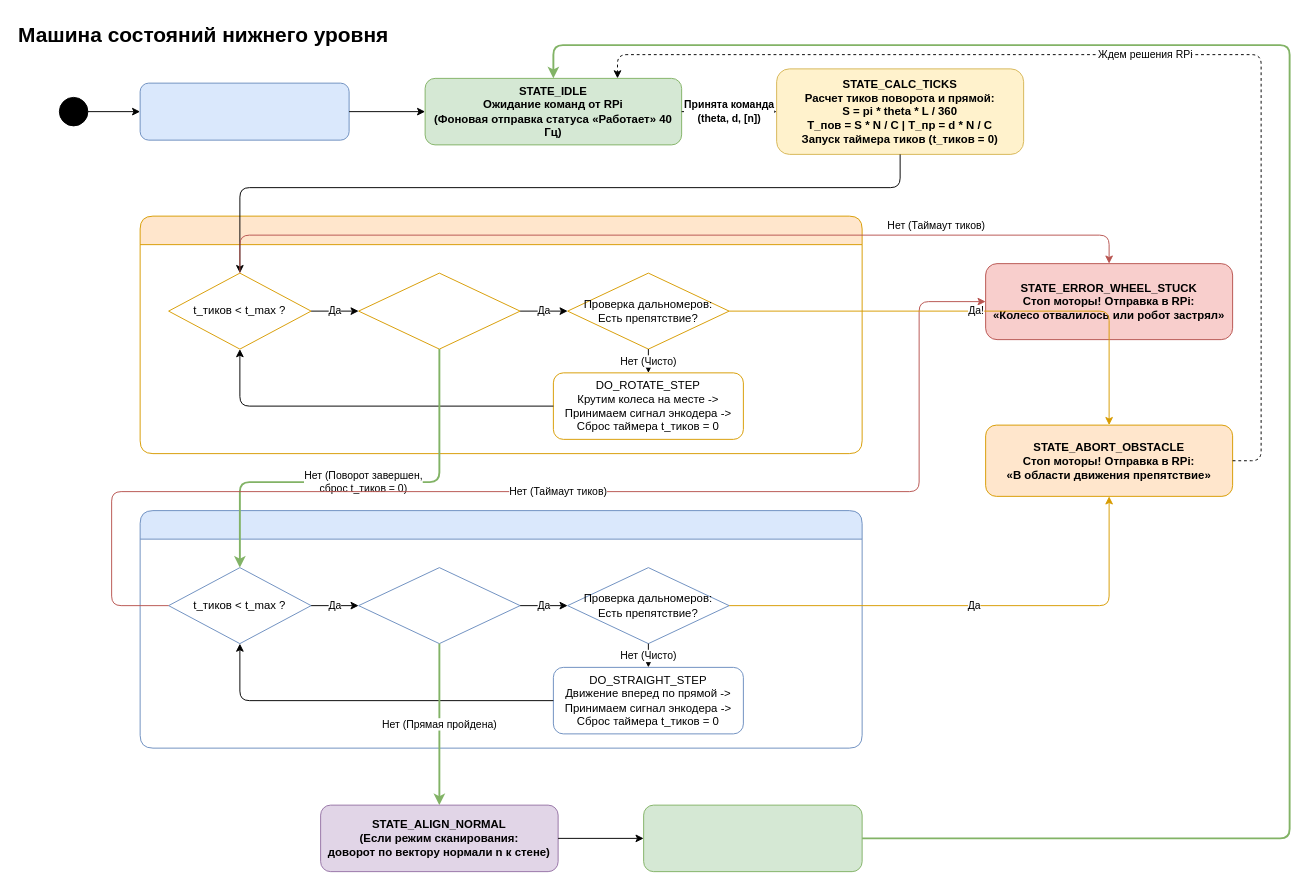
Some shapes in this 1314 by 888 pixel diagram are drawn without their labels. Here are the shapes that lost their labels. From the top down, the box of each, then its label:
(139, 82, 349, 140): ARDUINO_INIT Инициализация пинов, энкодеров, таймера 40 Гц
(358, 272, 520, 349): T_пов.тек < T_пов.зад ?
(139, 215, 862, 454): STATE_PHASE_ROTATE (Фаза 1: Поворот на месте на угол theta)
(358, 567, 520, 644): T_пр.тек < T_пр.зад ?
(139, 510, 862, 748): STATE_PHASE_STRAIGHT (Фаза 2: Движение по прямой на дальность d)
(643, 804, 862, 872): REPORT_MOVE_DONE Отправка в RPi: «Выполнил перемещение»
